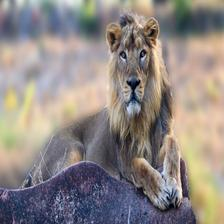Lion: (31, 11, 197, 201)
